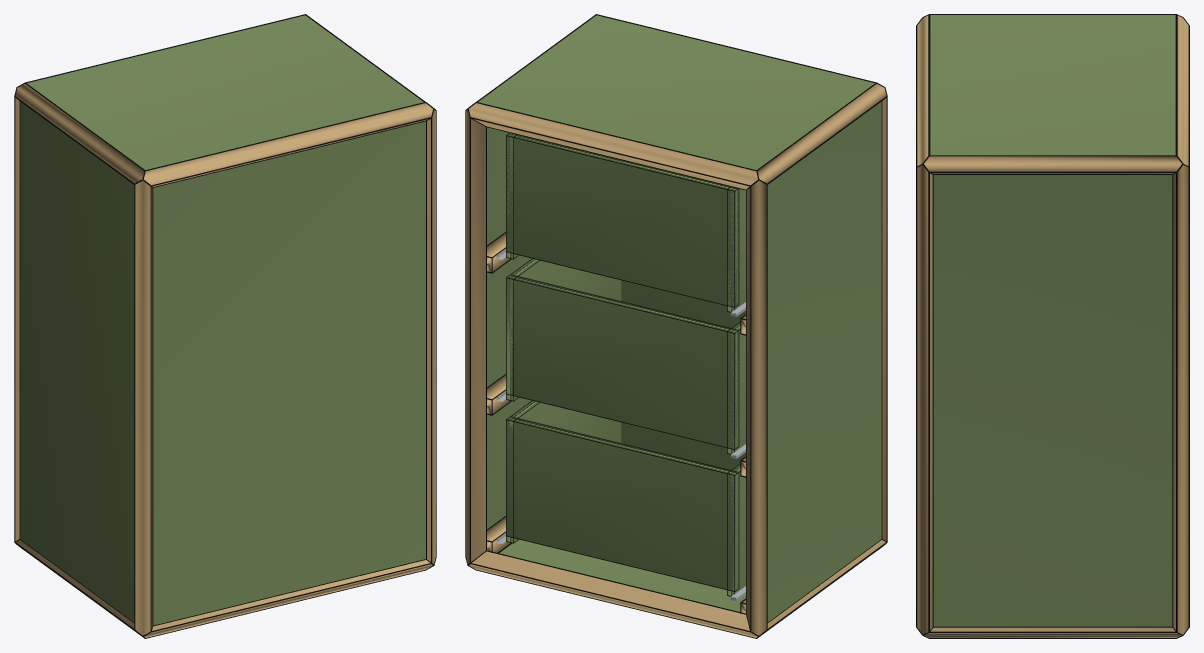
File: 031-meuble-bas.glb
The picture shows the model from 3 angles, left to right: view 1: azimuth 30°, elevation 25°; view 2: azimuth 150°, elevation 25°; view 3: azimuth 270°, elevation 25°; orthographic projection. The views are drawn at different scales.
Visible parts, largest first — view 1: panneau-fond, panneau-joue1, panneau-dessus_exterieur, arete-Z0, arete-X2, arete-Z1, arete-X0, arete-Y2, arete-Z2, panneau-wire-fond, arete-wire-Z0, arete-wire-Z1 (+6 smaller); view 2: panneau-joue1, panneau-dessus_exterieur, drawer-box-arriere-mod-2, drawer-box-arriere-mod-0, drawer-box-arriere-mod-1, arete-Z2, arete-Z3, panneau-joue2, arete-X3, arete-X1, panneau-dessous, drawer-box-joue_d-mod-1 (+19 smaller); view 3: panneau-joue2, panneau-dessus_exterieur, arete-Z1, arete-Z3, arete-Y3, panneau-wire-joue2, arete-Y1, arete-wire-Z1, arete-wire-Z3, arete-X2, arete-X3, arete-wire-Y3 (+4 smaller).
Boxes of the visible parts, box(x1,y1,x2,y2) form: panneau-fond: box(153, 121, 425, 625); panneau-joue1: box(20, 102, 134, 621); panneau-dessus_exterieur: box(27, 15, 423, 169); arete-Z0: box(135, 180, 152, 635); arete-X2: box(143, 103, 432, 186); arete-Z1: box(427, 110, 435, 563); arete-X0: box(144, 560, 432, 637); arete-Y2: box(15, 84, 144, 183); arete-Z2: box(15, 98, 19, 540); panneau-wire-fond: box(152, 120, 426, 626); arete-wire-Z0: box(134, 179, 152, 631); arete-wire-Z1: box(431, 108, 436, 563); panneau-joue1: box(767, 102, 881, 621); panneau-dessus_exterieur: box(478, 15, 874, 169); drawer-box-arriere-mod-2: box(506, 133, 738, 306); drawer-box-arriere-mod-0: box(506, 417, 737, 590); drawer-box-arriere-mod-1: box(506, 275, 738, 448); arete-Z2: box(746, 180, 766, 635); arete-Z3: box(466, 110, 485, 563); panneau-joue2: box(487, 127, 531, 529); arete-X3: box(469, 103, 758, 189); arete-X1: box(469, 551, 757, 637); panneau-dessous: box(499, 539, 745, 611); drawer-box-joue_d-mod-1: box(506, 259, 621, 400); panneau-joue2: box(933, 175, 1172, 626); panneau-dessus_exterieur: box(930, 15, 1175, 155); arete-Z1: box(917, 165, 932, 634); arete-Z3: box(1173, 165, 1188, 634); arete-Y3: box(924, 156, 1181, 173); panneau-wire-joue2: box(932, 174, 1173, 627); arete-Y1: box(924, 627, 1181, 637); arete-wire-Z1: box(916, 164, 933, 632); arete-wire-Z3: box(1176, 167, 1189, 632); arete-X2: box(917, 15, 928, 165); arete-X3: box(1177, 15, 1188, 165); arete-wire-Y3: box(929, 155, 1183, 174).
Bounding box in the file's own units: 0.6238 × 0.9238 × 0.4738.
